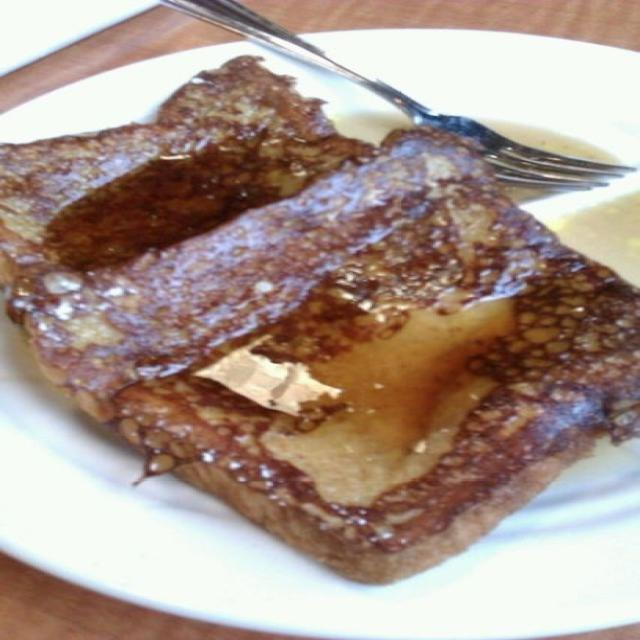面包点心: (9, 42, 630, 610)
